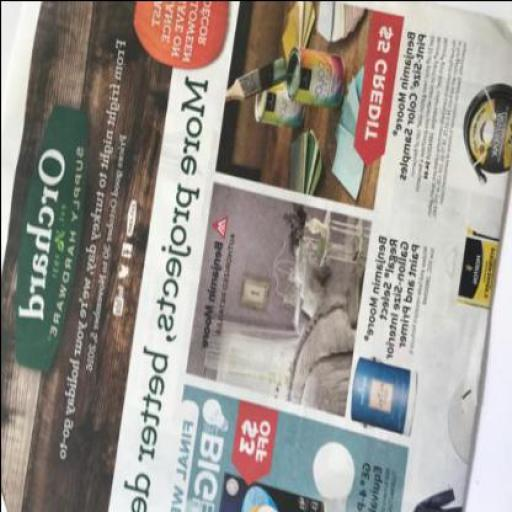paper: (1, 0, 512, 511)
